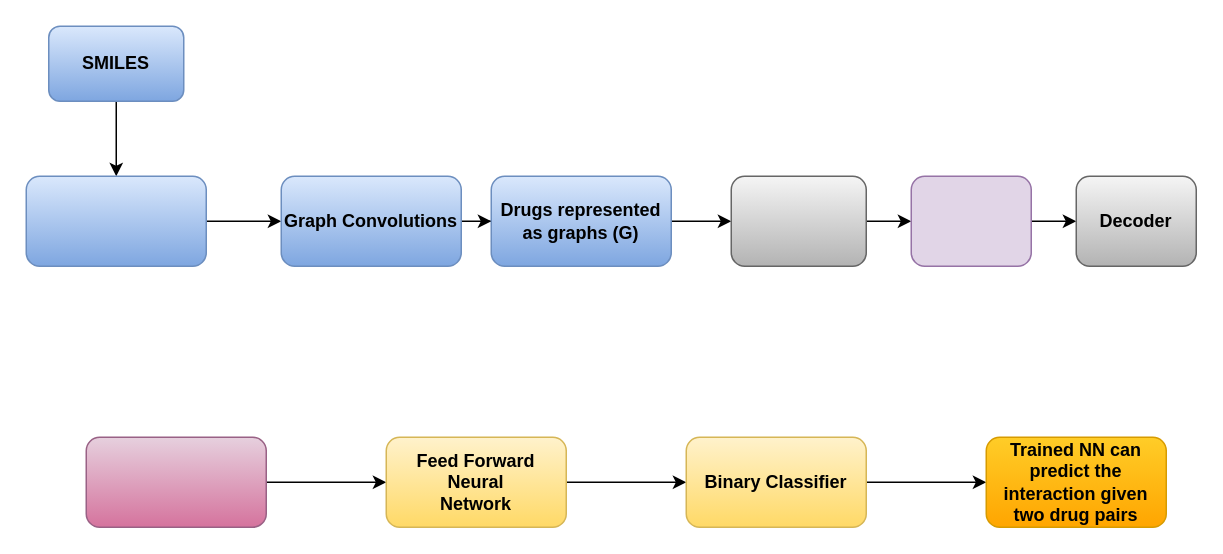
This 1223x554 diagram has some shape labels left out. Each missing label, with the centre of its shape:
Adjacency Matrix (A) Node Feature Matrix (X): the point at 115,220
Encoder: the point at 798,220
Labelled drug pair represented by latent embeddings E1||E2 -> (0,1): the point at 175,481
Latent Embeddings (E): the point at 970,220
